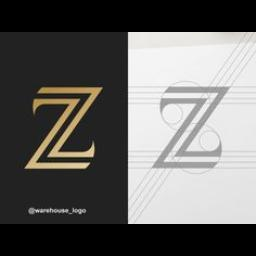z: (20, 76, 104, 176), (152, 78, 234, 176)
